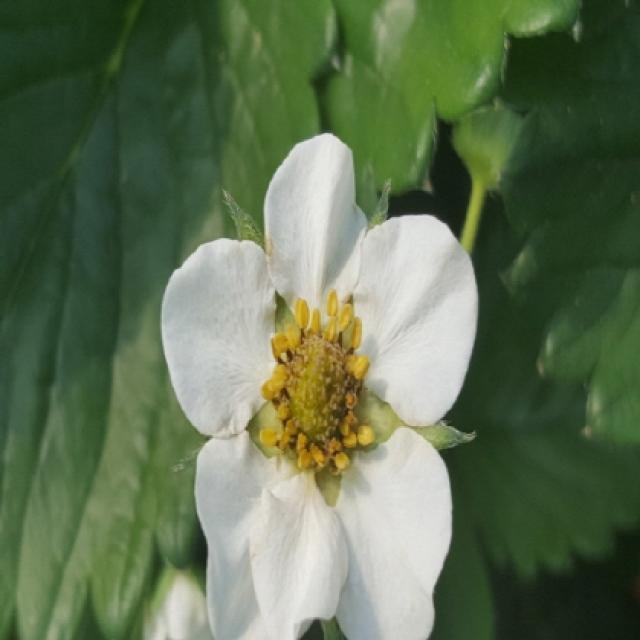Blossom Blight: (253, 285, 383, 477)
